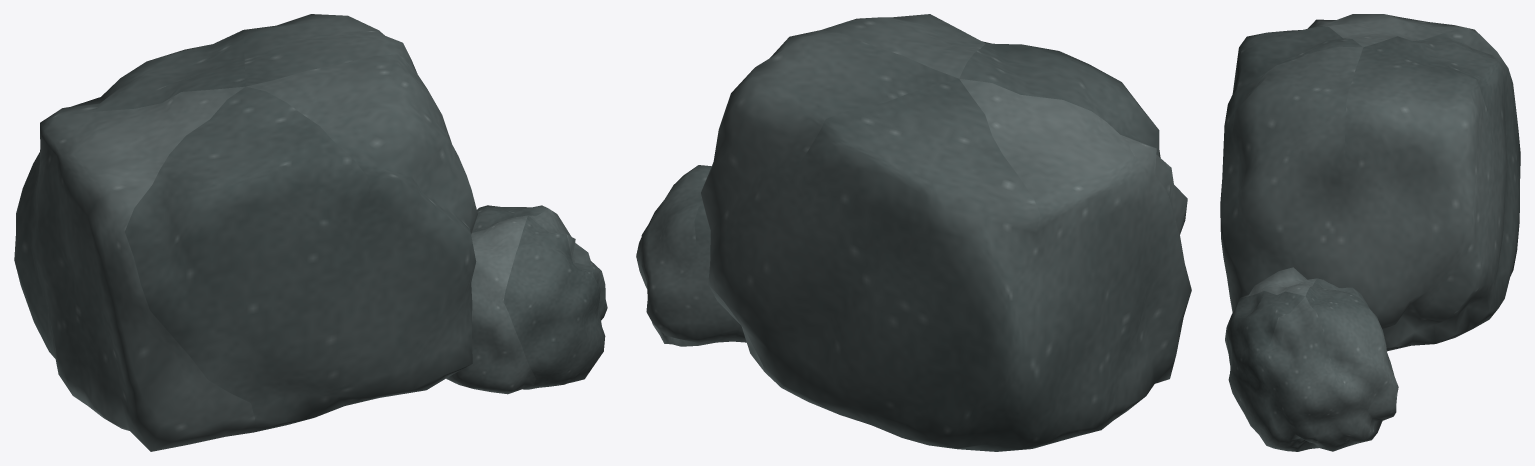
File: NaturalRock_04_FracturedBoulder.fbx
3 renders of one model, left to right at view 1: azimuth 30°, elevation 25°; view 2: azimuth 150°, elevation 25°; view 3: azimuth 270°, elevation 25°, orthographic. The views are drawn at different scales.
Visible parts, largest first — view 1: Rock_Main.003, Rock_Fragment; view 2: Rock_Main.003, Rock_Fragment; view 3: Rock_Main.003, Rock_Fragment.
Boxes of the visible parts, x1=… form: Rock_Main.003: x1=14, y1=14, x2=477, y2=451; Rock_Fragment: x1=446, y1=205, x2=607, y2=394; Rock_Main.003: x1=701, y1=14, x2=1191, y2=451; Rock_Fragment: x1=636, y1=165, x2=746, y2=346; Rock_Main.003: x1=1220, y1=14, x2=1520, y2=351; Rock_Fragment: x1=1225, y1=267, x2=1398, y2=451.
Bounding box in the file's own units: 2.7 × 1.73 × 1.63.
2 materials, 2 textured.
